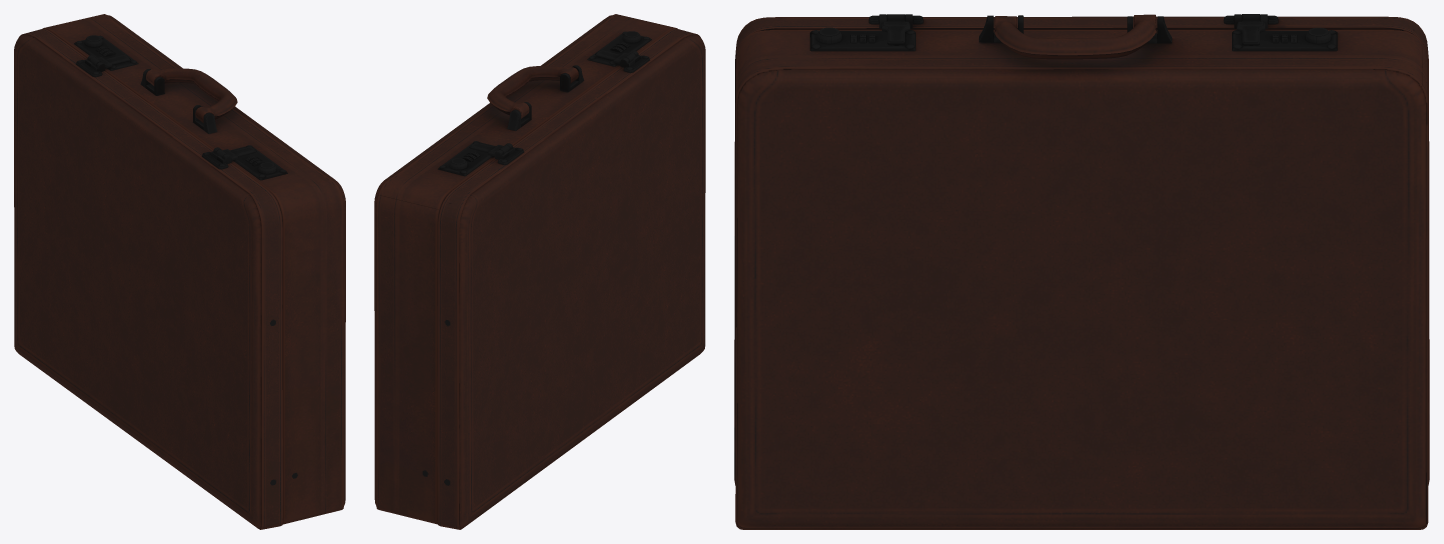
The model's file is briefcase.glb.
3 renders of one model, left to right at view 1: azimuth 30°, elevation 25°; view 2: azimuth 150°, elevation 25°; view 3: azimuth 270°, elevation 25°, orthographic. The views are drawn at different scales.
Parts seen in each view (by area): view 1: Hard_Attache_Leather_Briefcase_Brown_Baked; view 2: Hard_Attache_Leather_Briefcase_Brown_Baked; view 3: Hard_Attache_Leather_Briefcase_Brown_Baked.
Boxes of the visible parts, box(x1,y1,x2,y2) form: Hard_Attache_Leather_Briefcase_Brown_Baked: box(14, 14, 345, 529); Hard_Attache_Leather_Briefcase_Brown_Baked: box(374, 14, 705, 529); Hard_Attache_Leather_Briefcase_Brown_Baked: box(734, 14, 1429, 529).
Bounding box in the file's own units: 9.92 × 34.85 × 45.11.
1 material, 1 textured.
